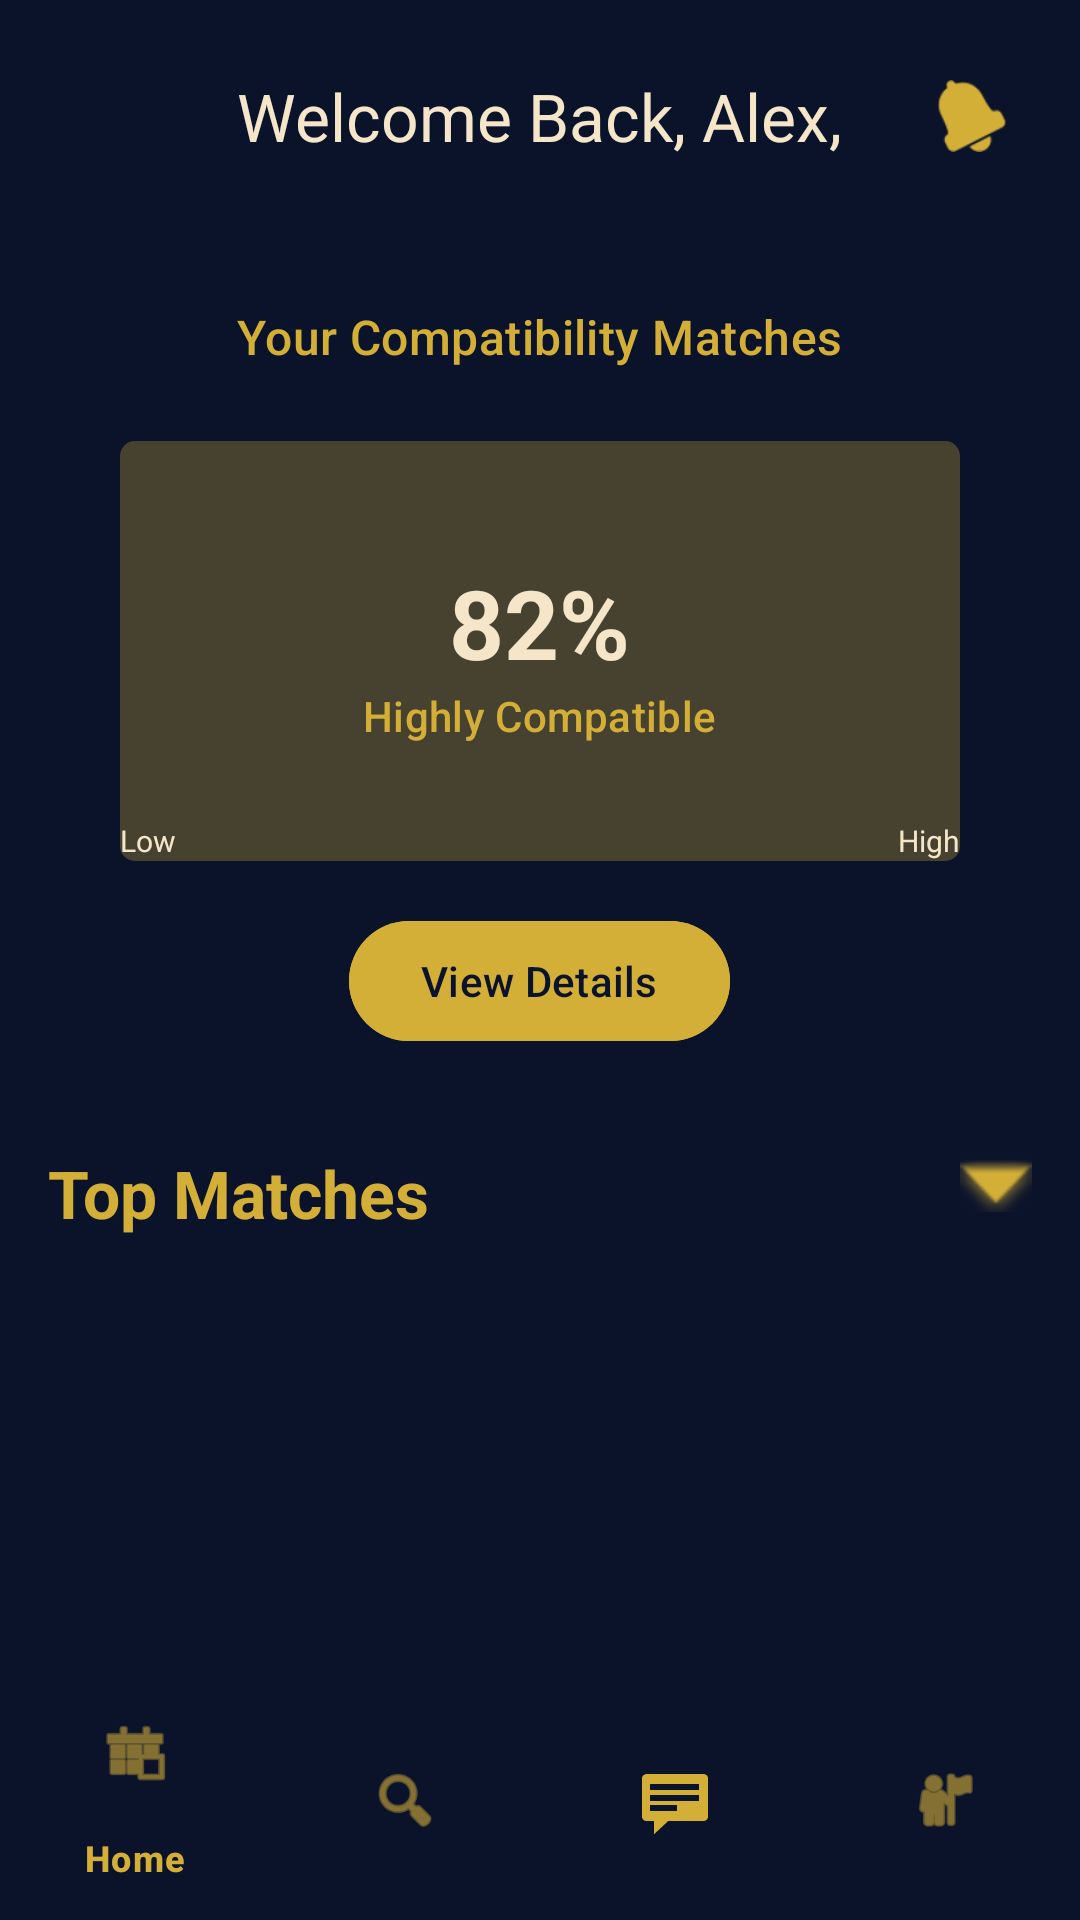

Icon bounding boxes for this 1080x1920 phone screenshot, format Rect(x1, y1, x2, y2):
Dropdown: Rect(960, 1162, 1032, 1209)
Reminders: Rect(938, 80, 1006, 152)
